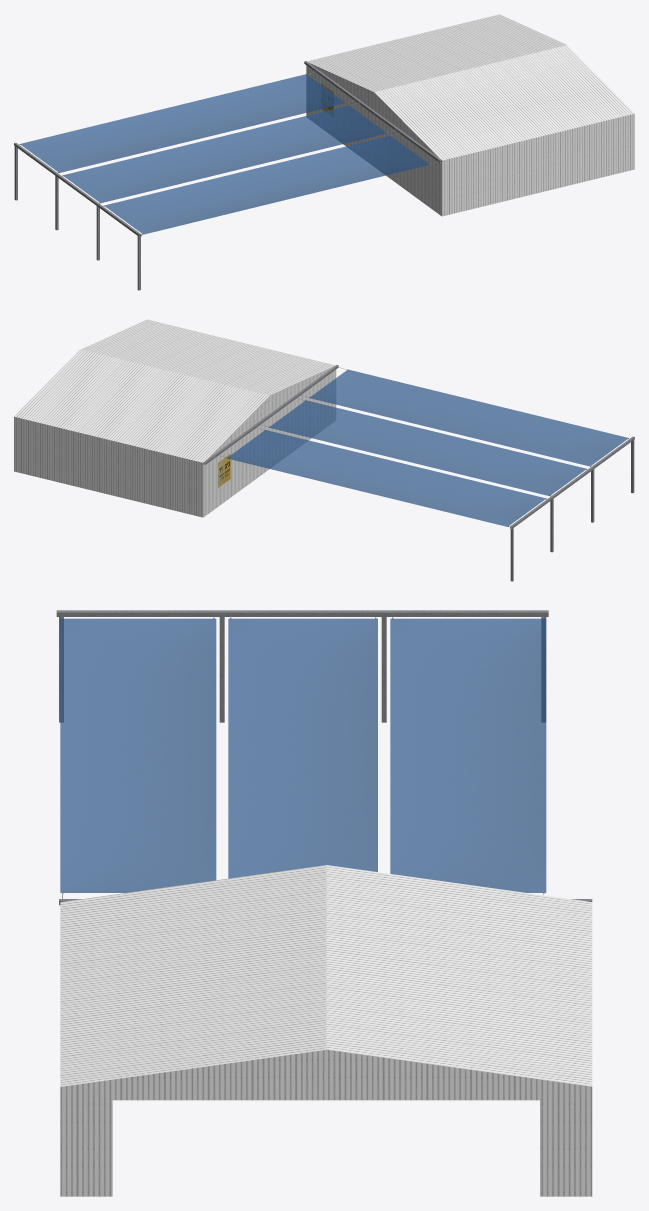
The model's file is ChimNirLargeHangar_Felix_LOD0.gltf.
3 views of the same model, one above another, from view 1: azimuth 30°, elevation 25°; view 2: azimuth 150°, elevation 25°; view 3: azimuth 270°, elevation 25° (orthographic). The views are drawn at different scales.
Visible parts, largest first — view 1: node4, node2, node1; view 2: node4, node2, node1; view 3: node4, node2, node1.
Part boxes in pixels (x1,y1,x2,y2): node4: (306, 14, 634, 216); node2: (20, 74, 429, 234); node1: (14, 61, 442, 290); node4: (14, 319, 336, 517); node2: (227, 369, 627, 526); node1: (203, 365, 634, 581); node4: (60, 865, 592, 1196); node2: (60, 618, 546, 892); node1: (56, 610, 592, 905).
Bounding box in the file's own units: 46.3 × 6.66 × 22.05.
